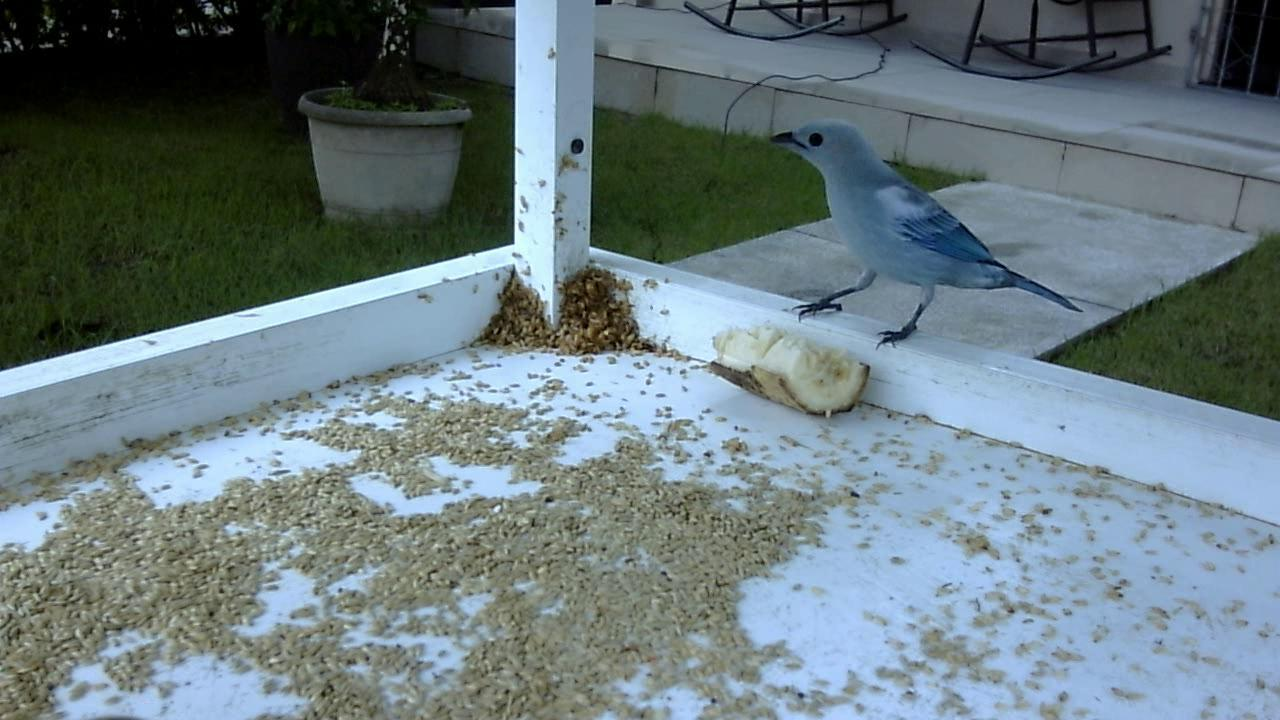sanhaco_da_amazonia: (753, 108, 1095, 363)
